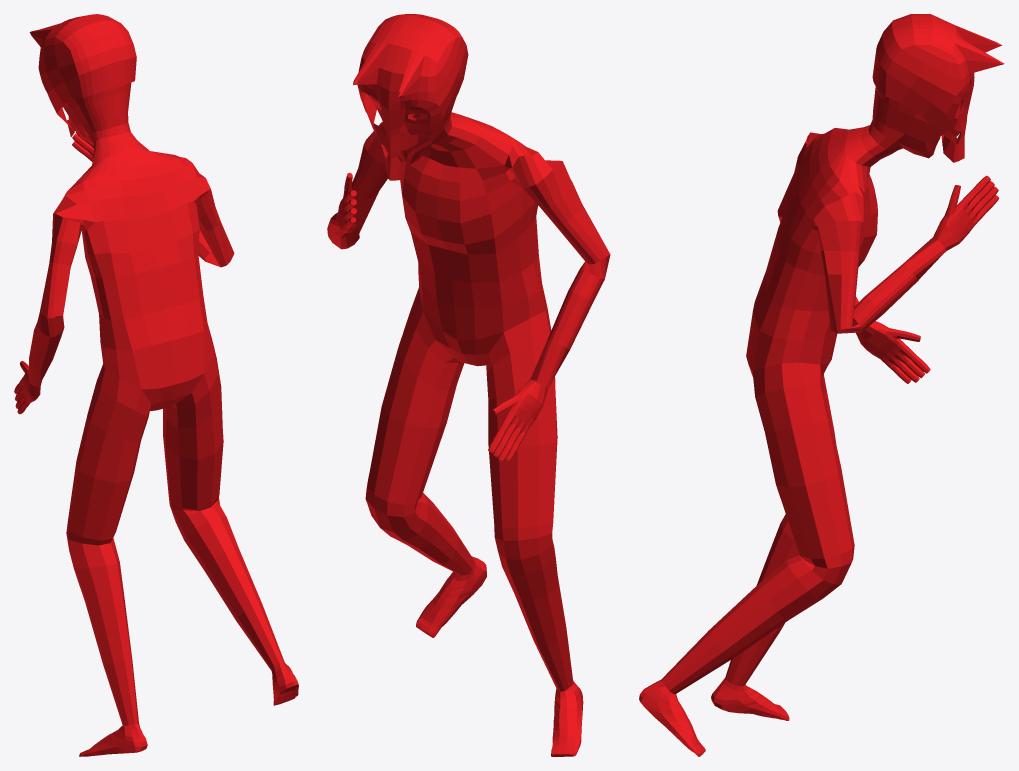
File: correrE_000118.obj
The picture shows the model from 3 angles, left to right: view 1: azimuth 30°, elevation 25°; view 2: azimuth 150°, elevation 25°; view 3: azimuth 270°, elevation 25°; orthographic projection. The views are drawn at different scales.
Parts seen in each view (by area): view 1: Plane.002_Plane.001; view 2: Plane.002_Plane.001; view 3: Plane.002_Plane.001.
Boxes of the visible parts, bbox=[...] form: Plane.002_Plane.001: bbox=[14, 14, 298, 756]; Plane.002_Plane.001: bbox=[327, 14, 610, 756]; Plane.002_Plane.001: bbox=[639, 14, 1004, 756].
Size of the model in its own units: 2.28 by 6.8 by 3.09.
